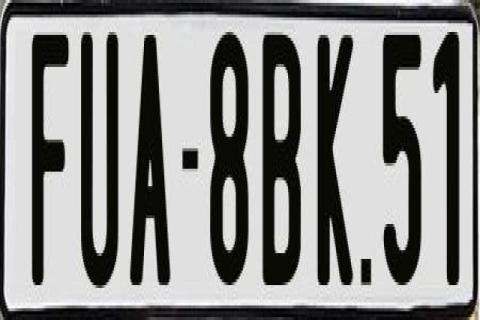0: (381, 32, 425, 294), (210, 27, 250, 280), (432, 23, 460, 276)
A: (128, 29, 172, 288)
B: (262, 29, 306, 279)
F: (32, 32, 70, 285)
K: (316, 26, 357, 288)
U: (80, 26, 121, 282)
